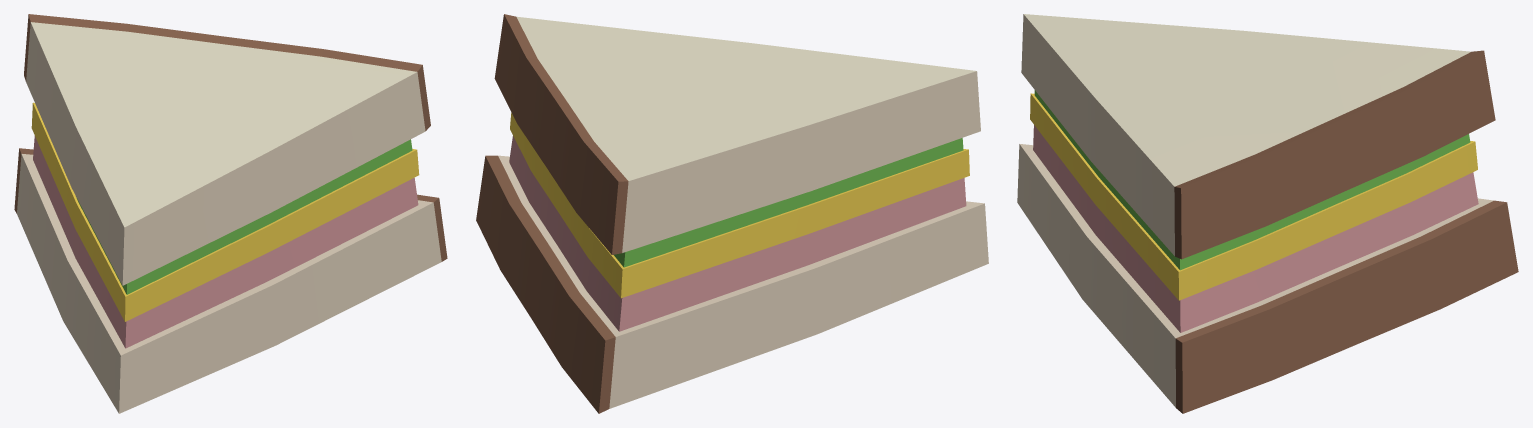
Rendered from SandwichSlice.fbx.
The picture shows the model from 3 angles, left to right: view 1: azimuth 30°, elevation 25°; view 2: azimuth 150°, elevation 25°; view 3: azimuth 270°, elevation 25°; orthographic projection. The views are drawn at different scales.
Visible parts, largest first — view 1: sandwich; view 2: sandwich; view 3: sandwich.
Part boxes in pixels (box(x1,y1,x2,y2)): sandwich: box(14, 14, 447, 413); sandwich: box(476, 14, 988, 413); sandwich: box(1017, 14, 1518, 413).
Bounding box in the file's own units: 18.49 × 9.04 × 18.64.
Materials: 1 (1 with a texture image).
